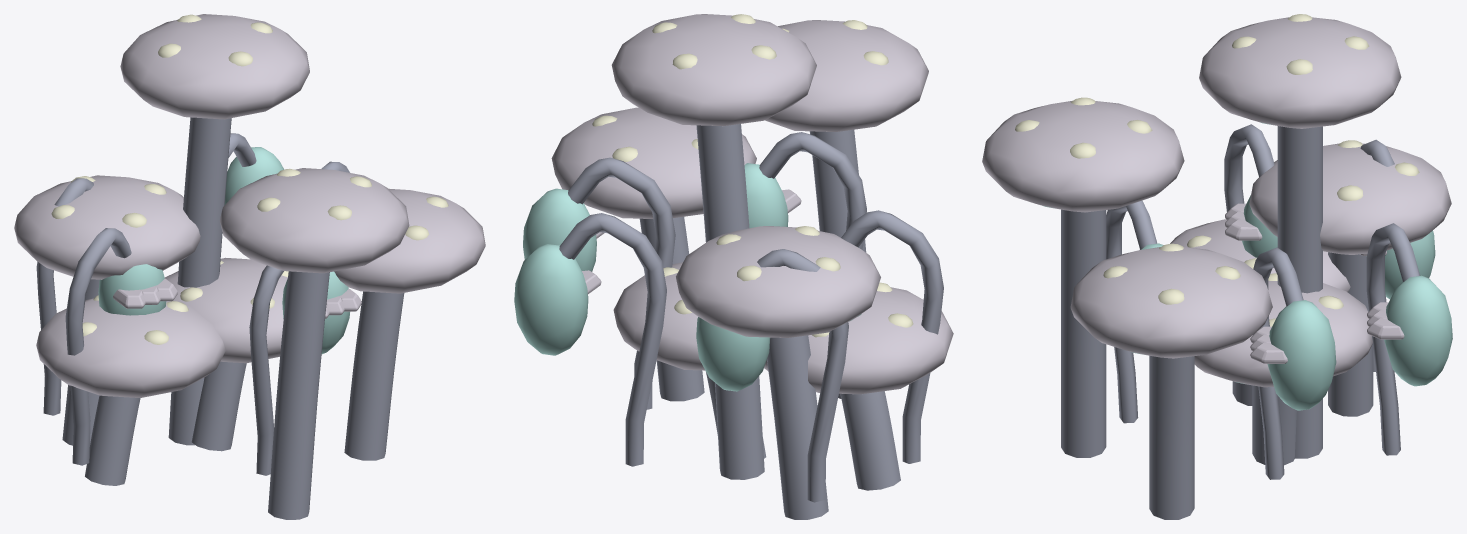
Rendered from bio_spore_fungus_03_far.glb.
The picture shows the model from 3 angles, left to right: view 1: azimuth 30°, elevation 25°; view 2: azimuth 150°, elevation 25°; view 3: azimuth 270°, elevation 25°; orthographic projection. The views are drawn at different scales.
Visible parts, largest first — view 1: Thick umbrella cap.002, Thick umbrella cap.003, Thick umbrella cap.004, Thick umbrella cap.001, Curved stipe.002, Thick umbrella cap.005, Curved stipe.003, Curved stipe.005, Thick umbrella cap, Arched fruit stem.004, Arched fruit stem.002, Curved stipe.004 (+13 smaller); view 2: Thick umbrella cap.003, Thick umbrella cap.001, Thick umbrella cap.002, Thick umbrella cap.005, Curved stipe.003, Thick umbrella cap.004, Curved stipe.001, Pendant spore capsule.003, Arched fruit stem.003, Arched fruit stem.004, Curved stipe.004, Thick umbrella cap (+11 smaller); view 3: Thick umbrella cap.003, Thick umbrella cap.005, Thick umbrella cap.002, Thick umbrella cap.001, Curved stipe.002, Curved stipe.003, Curved stipe.005, Pendant spore capsule.003, Pendant spore capsule, Thick umbrella cap, Arched fruit stem.003, Curved stipe.001 (+15 smaller).
Part boxes in pixels (x1,y1,x2,y2): Thick umbrella cap.002: (219,168,409,273); Thick umbrella cap.003: (120,14,309,119); Thick umbrella cap.004: (36,298,225,397); Thick umbrella cap.001: (14,175,200,279); Curved stipe.002: (268,271,329,519); Thick umbrella cap.005: (334,188,485,293); Curved stipe.003: (168,117,231,445); Curved stipe.005: (344,291,404,460); Thick umbrella cap: (165,257,287,363); Arched fruit stem.004: (65,228,131,465); Arched fruit stem.002: (249,265,283,475); Curved stipe.004: (85,395,140,485); Thick umbrella cap.003: (611,14,816,126); Thick umbrella cap.001: (676,226,880,337); Thick umbrella cap.002: (765,20,928,131); Thick umbrella cap.005: (551,107,756,218); Curved stipe.003: (696,124,764,479); Thick umbrella cap.004: (764,287,953,394); Curved stipe.001: (767,335,828,519); Pendant spore capsule.003: (514,244,588,355); Arched fruit stem.003: (559,213,666,466); Arched fruit stem.004: (841,210,943,463); Curved stipe.004: (840,391,900,490); Thick umbrella cap: (613,262,705,370); Thick umbrella cap.003: (1199,17,1401,128); Thick umbrella cap.005: (1070,247,1272,358); Thick umbrella cap.002: (982,101,1184,212); Thick umbrella cap.001: (1249,143,1451,254); Curved stipe.002: (1061,209,1106,457); Curved stipe.003: (1277,126,1322,458); Curved stipe.005: (1149,355,1194,519); Pendant spore capsule.003: (1384,275,1452,386); Pendant spore capsule: (1267,300,1336,410); Thick umbrella cap: (1194,280,1372,387); Arched fruit stem.003: (1366,223,1419,455); Curved stipe.001: (1328,252,1373,416).
Bounding box in the file's own units: 1.78 × 1.78 × 1.76.
